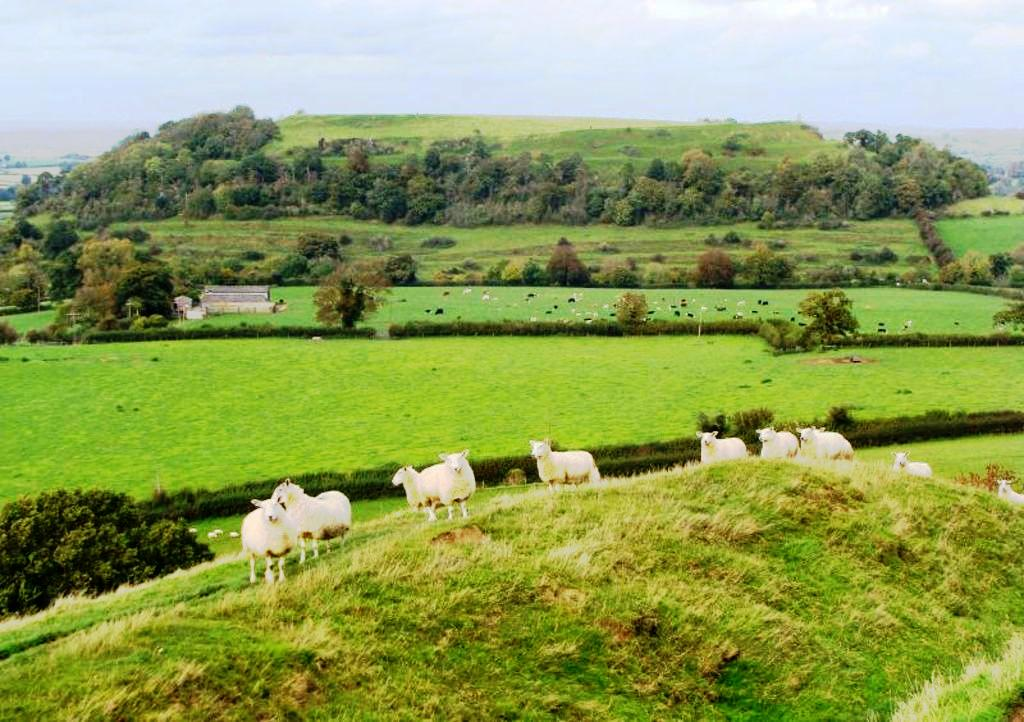Sheep: (274, 476, 351, 566), (239, 500, 302, 584), (418, 450, 478, 522), (529, 442, 603, 493), (390, 462, 436, 514), (694, 433, 749, 462), (799, 432, 855, 460), (758, 428, 800, 458), (892, 453, 933, 476), (994, 479, 1022, 497), (796, 425, 824, 431)
